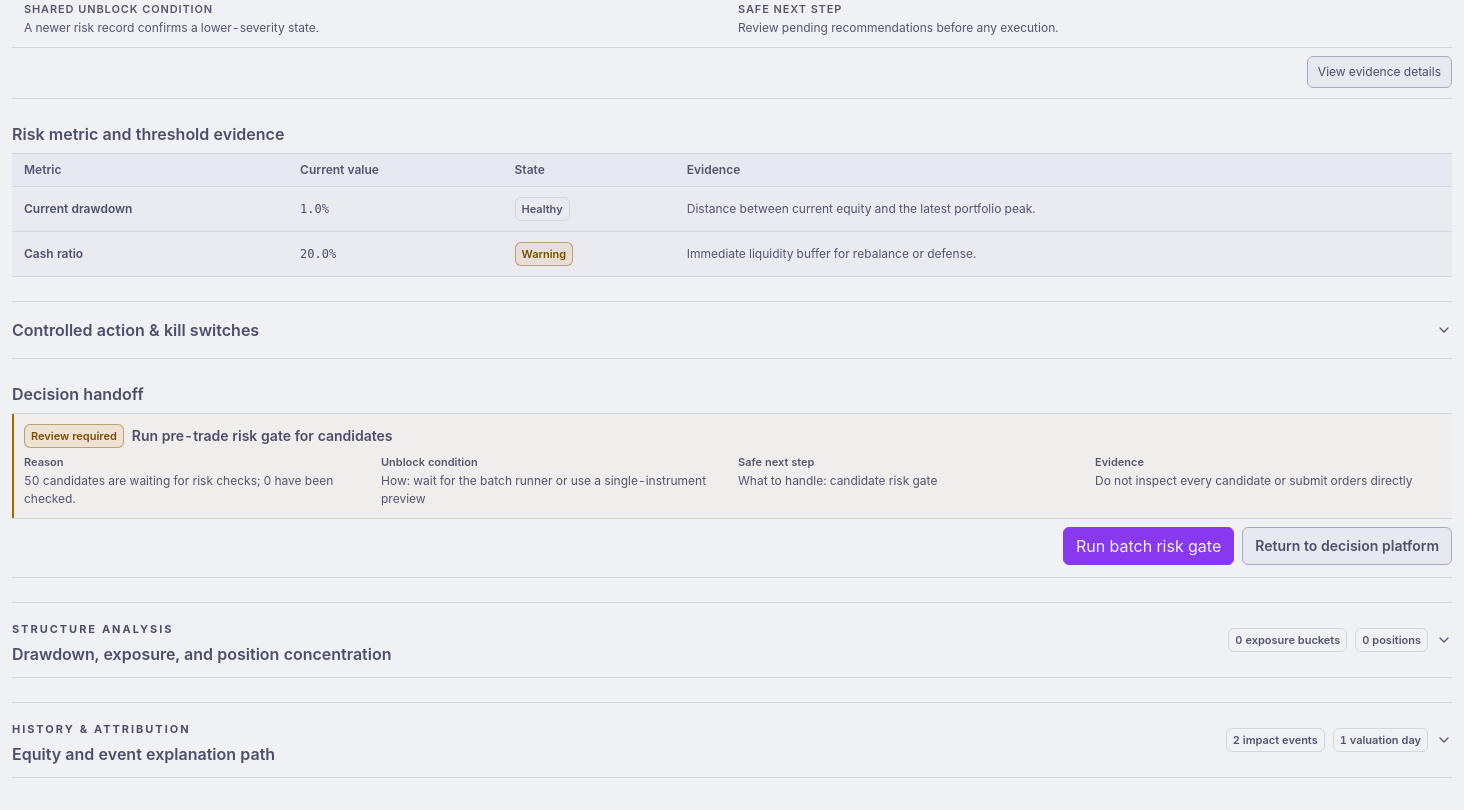
Test: renders recent risk drivers as readable audit events
(page scrolled)
Click the heading that starts with "History & attribution" at (101, 729), box [12,722,1452,764]
(page scrolled)
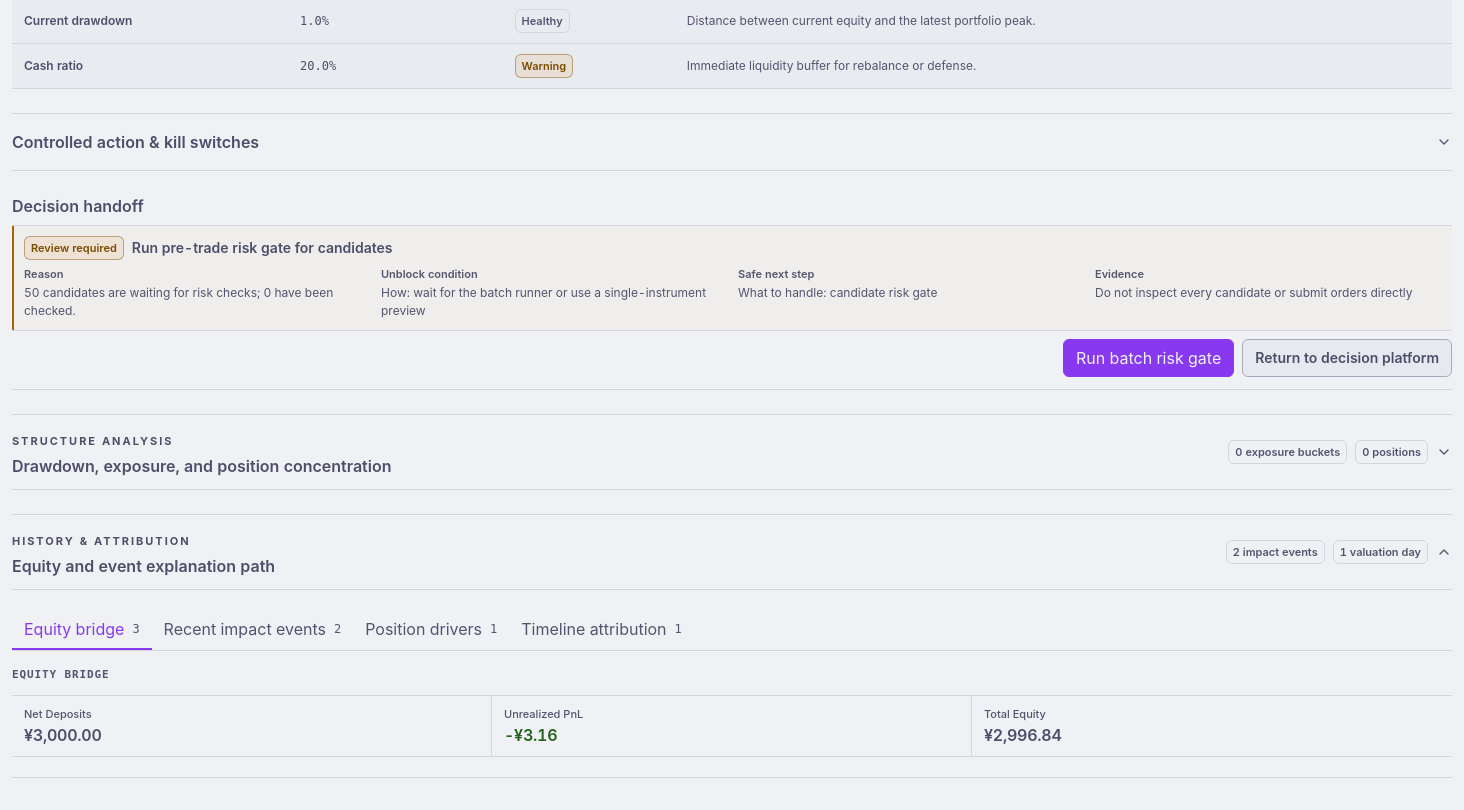
Click the tab "Recent impact events 2" at (252, 630), box [152,610,353,650]
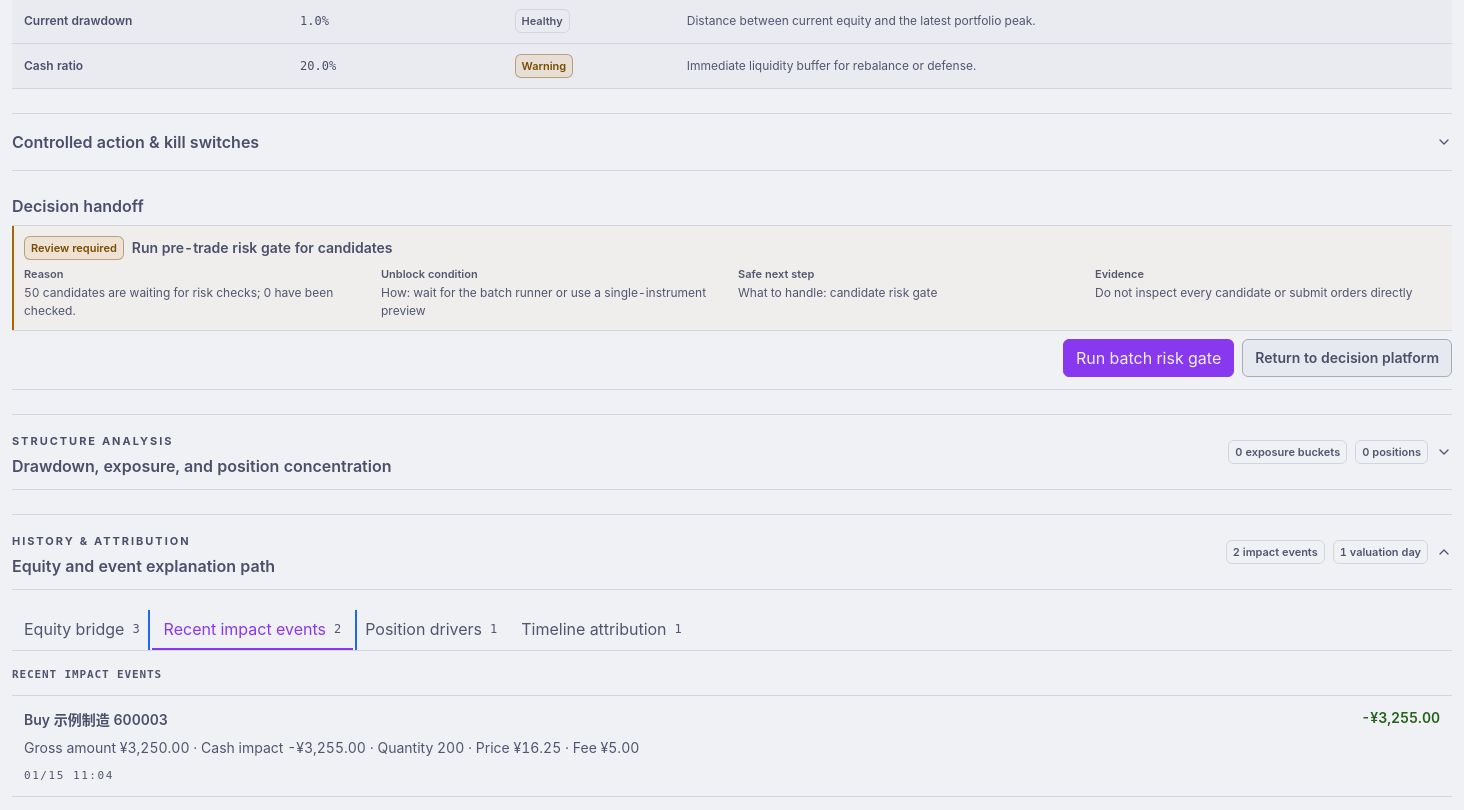
Expected: the text "Buy 示例制造 600003" is shown, [24,708,168,732]
Expected: the text "Gross amount ¥3,250.00 · Cash impact -¥3,255.00 · Quantity 200 · Price ¥16.25 · Fee ¥5.00" is shown, [24,739,639,756]
